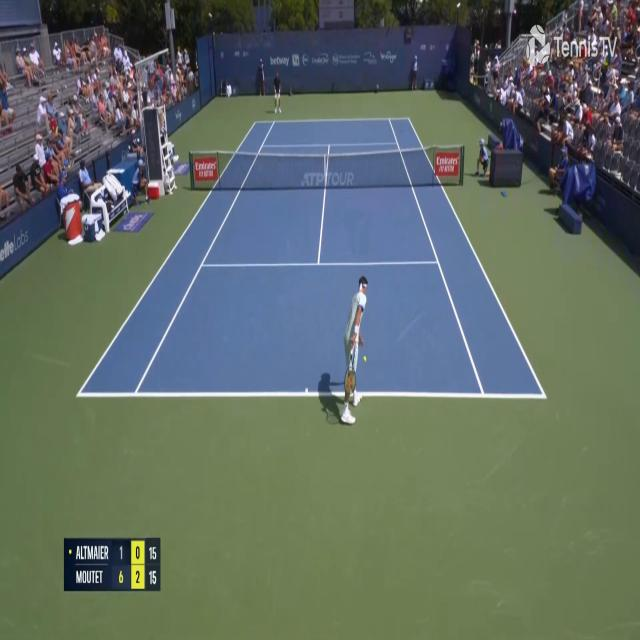tennis-player: (328, 272, 368, 429), (272, 69, 284, 117)
